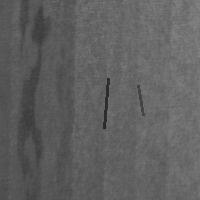inclusion: (9, 1, 51, 180), (51, 1, 79, 198), (102, 76, 110, 130), (136, 83, 145, 117)
